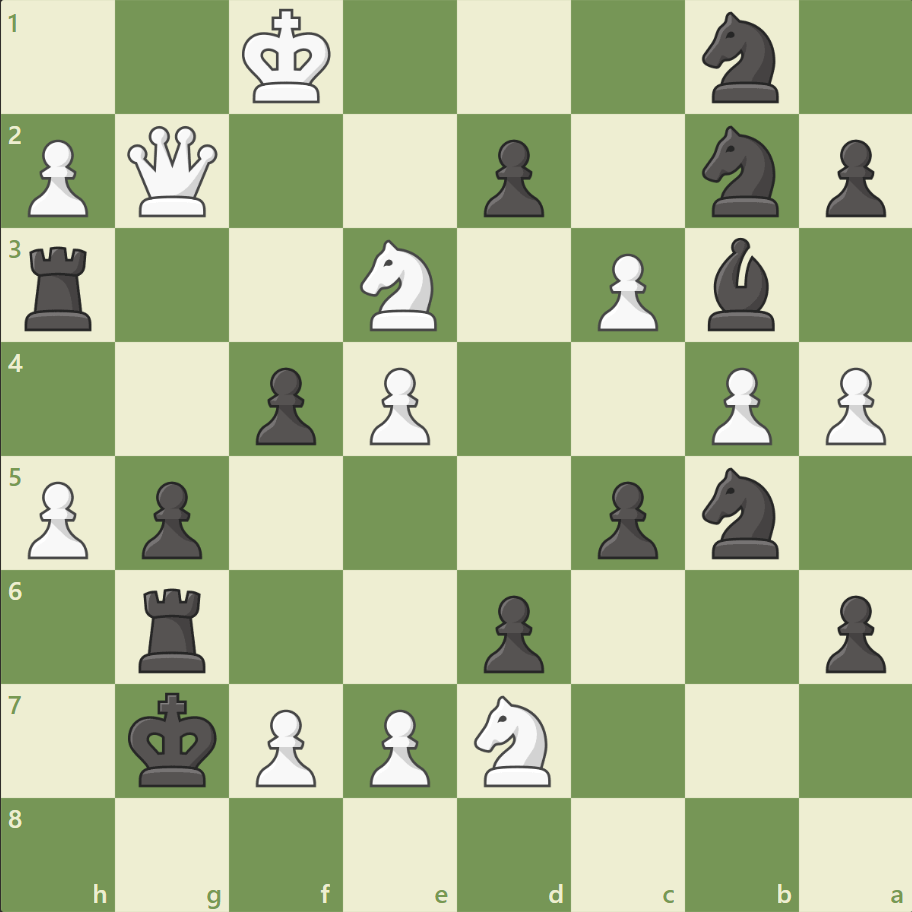K: (238, 4, 338, 112)
N: (351, 234, 449, 337), (465, 688, 562, 791)
P: (247, 700, 322, 791), (20, 473, 95, 564), (701, 359, 776, 450), (20, 132, 95, 223), (361, 700, 435, 791), (815, 359, 889, 450), (361, 359, 435, 450), (588, 246, 662, 337)
Q: (124, 122, 223, 222)
b: (698, 233, 782, 336)
k: (124, 685, 224, 793)
n: (692, 461, 789, 564), (692, 7, 789, 110), (692, 121, 789, 223)
p: (474, 586, 549, 677), (133, 473, 208, 564), (247, 359, 322, 450), (474, 132, 549, 223), (815, 586, 889, 677), (588, 473, 662, 564), (815, 132, 889, 223)
r: (19, 239, 102, 336), (133, 579, 215, 676)
